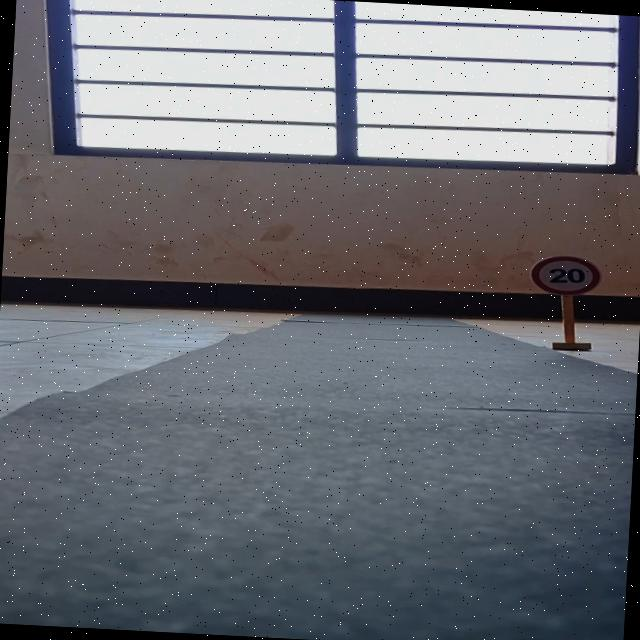Speed20: (523, 252, 608, 300)
